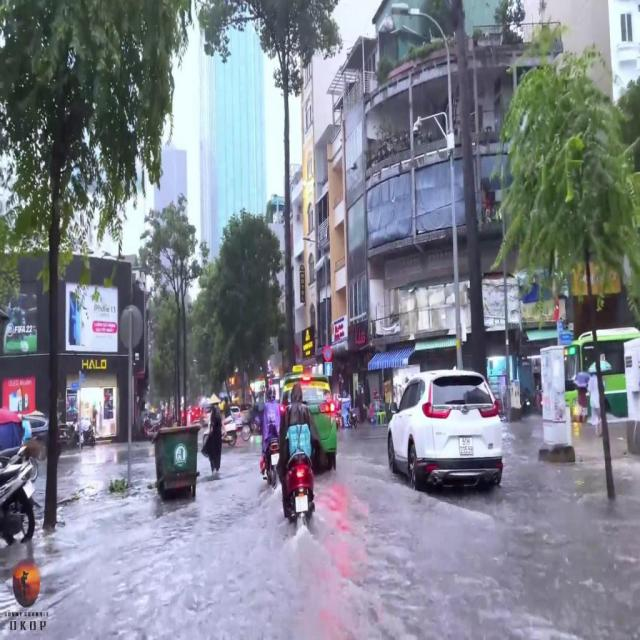cam_do_xe: (323, 346, 332, 360)
duong_mot_chieu: (325, 362, 332, 376)
